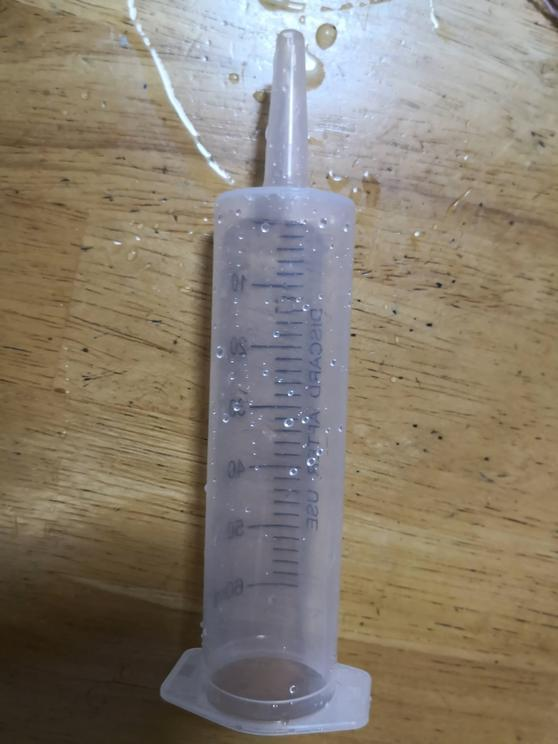wetsyringe: (156, 30, 376, 734)
